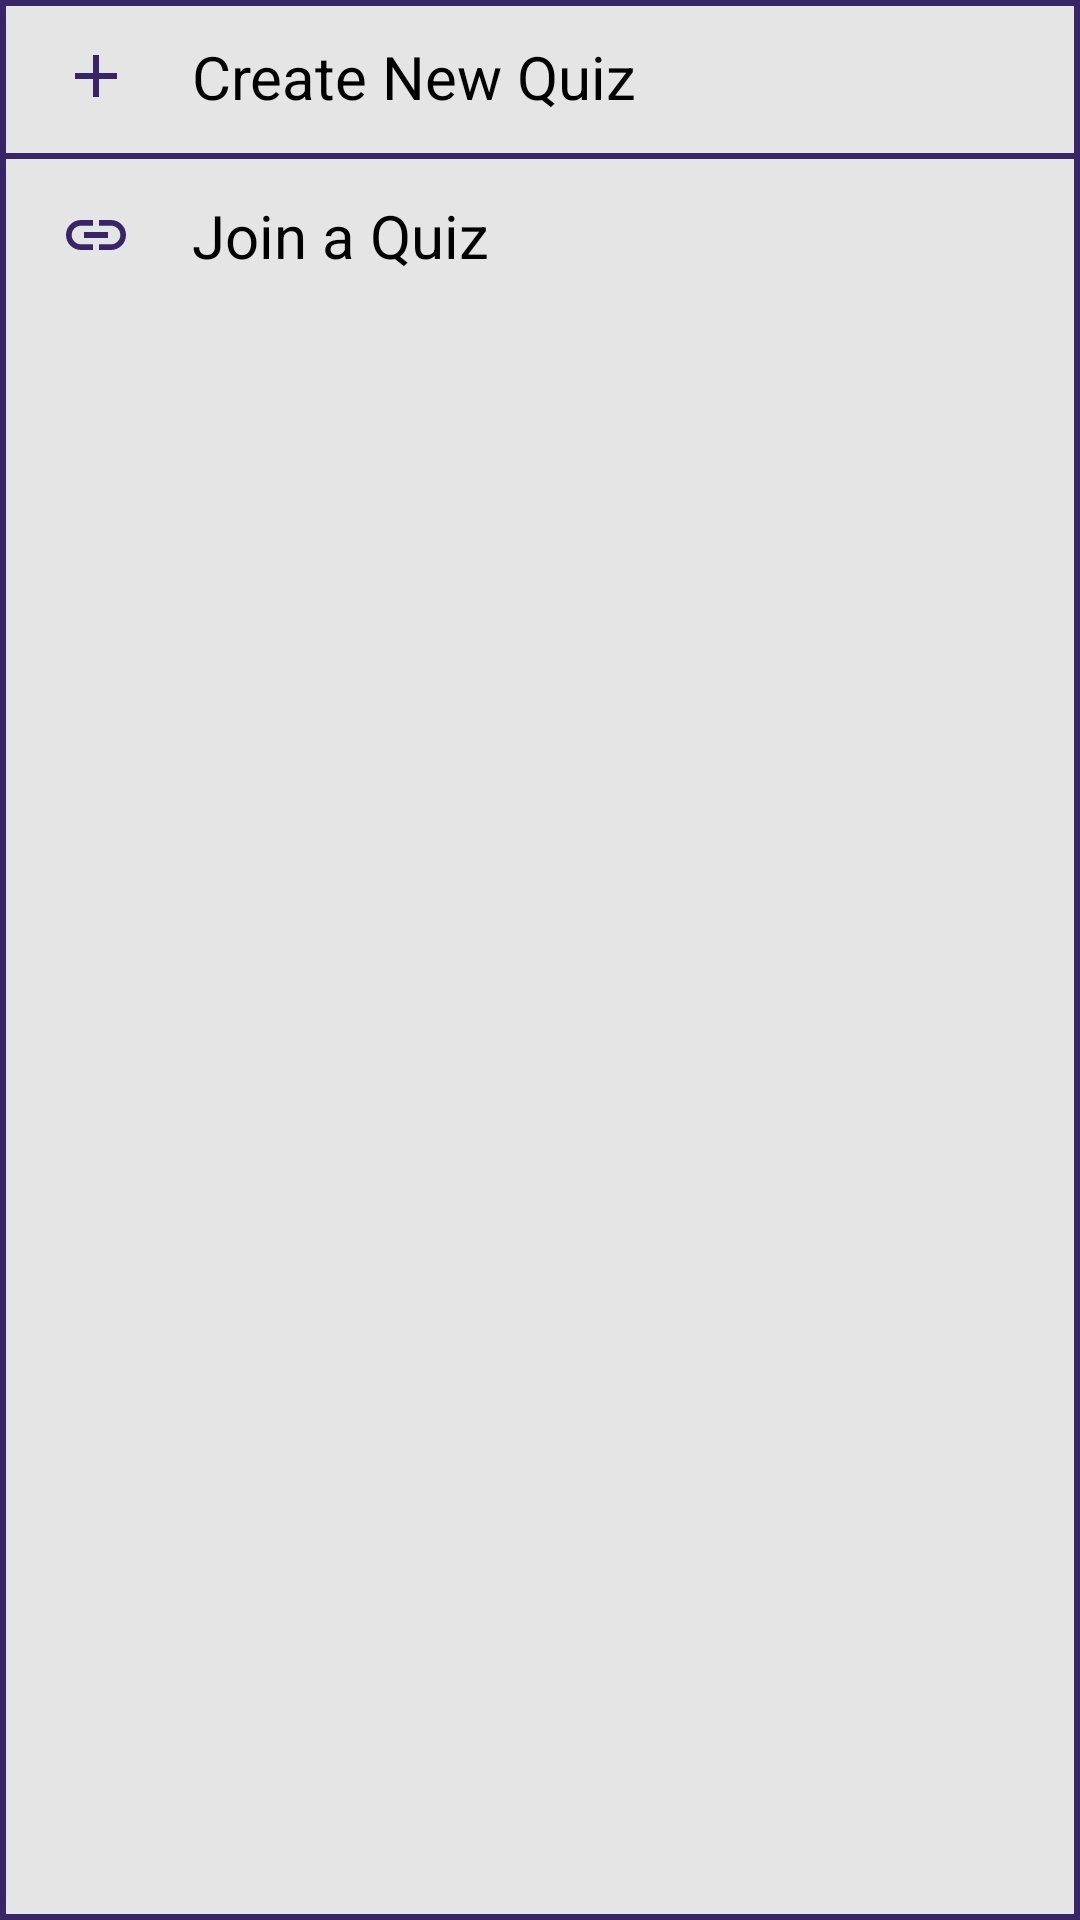

Screen size 1080×1920. Icon name, then its box in pixels as (x1, y1, x2, y2):
add: (75, 55, 117, 97)
link: (66, 220, 126, 250)
